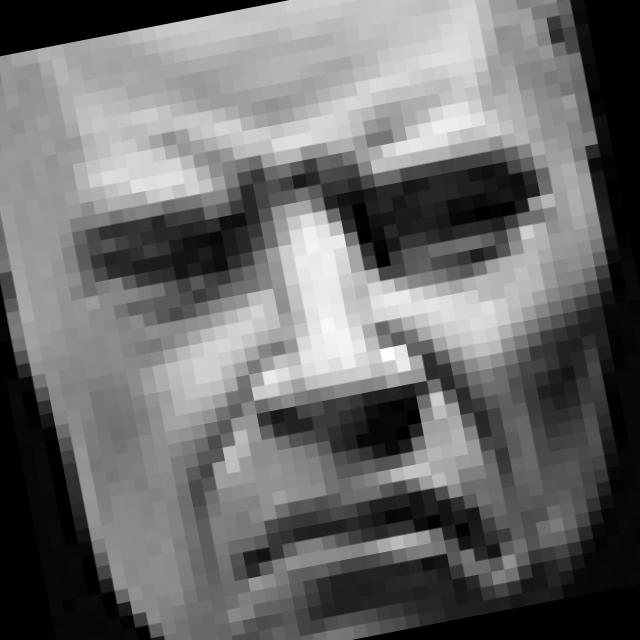disgust: (60, 53, 623, 640)
